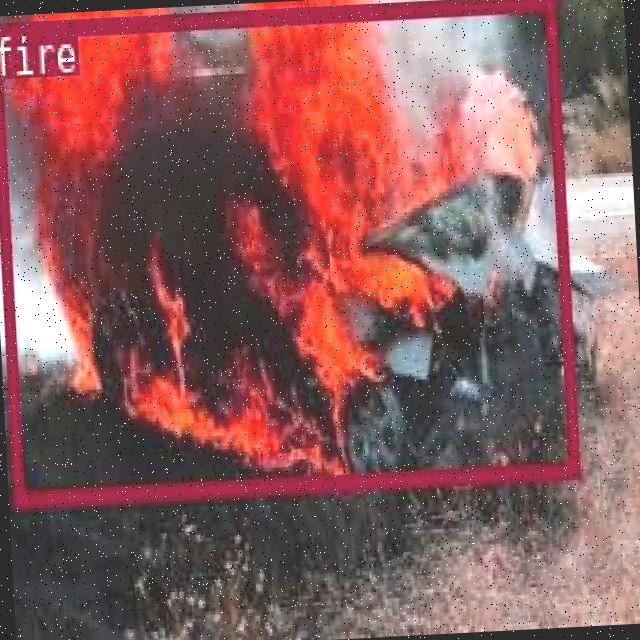fire: (0, 0, 578, 505)
